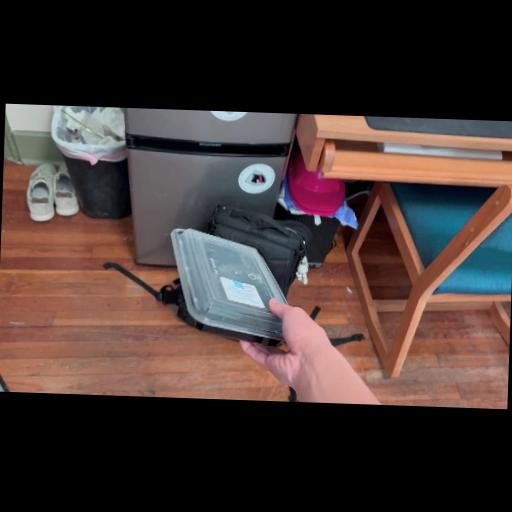rigid_plastic_container: (168, 226, 298, 344)
